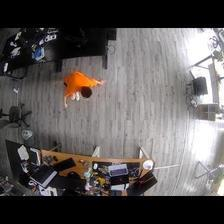fall: (62, 71, 105, 108)
